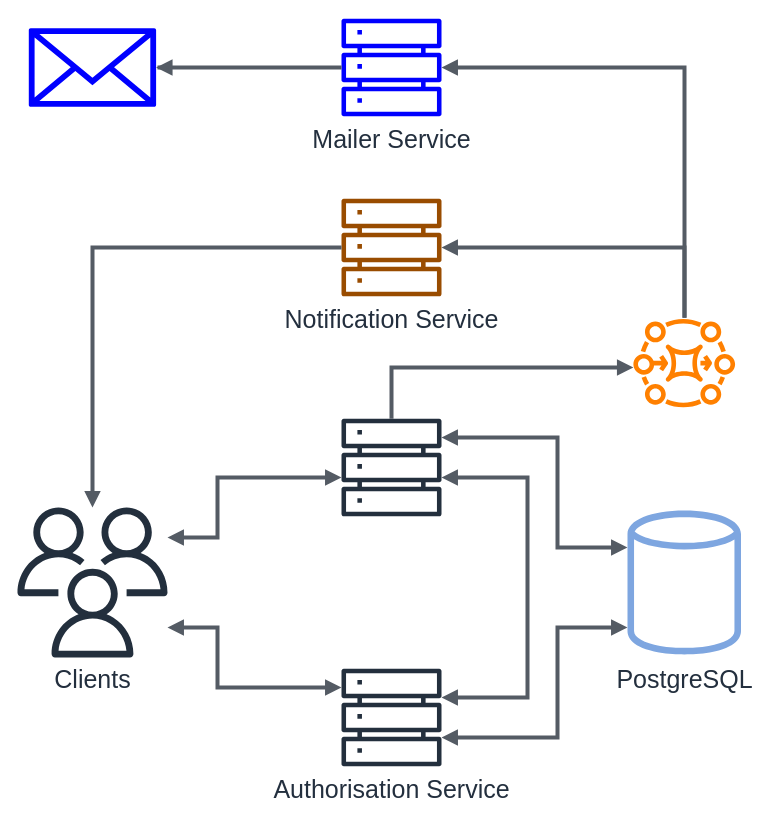
This 769x821 diagram has some shape labels left out. The centre of each missing label's shape, as x and y in pixels:
Client emails: point 92,67
Rabbit MQ: point 684,362
User Service: point 391,467
